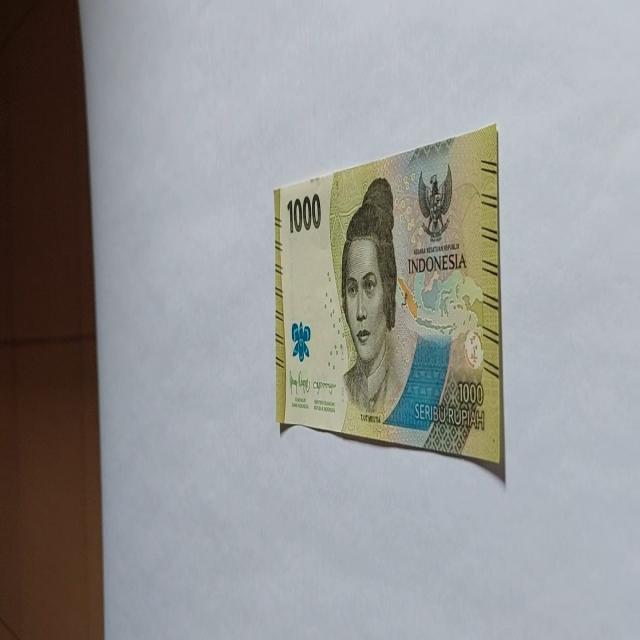seribu rupiah kertas: (273, 122, 504, 481)
